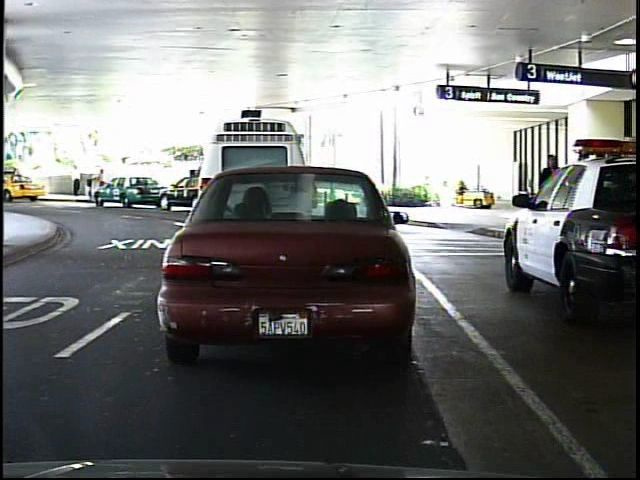person: (535, 148, 567, 235), (91, 164, 110, 199), (71, 161, 85, 200)
